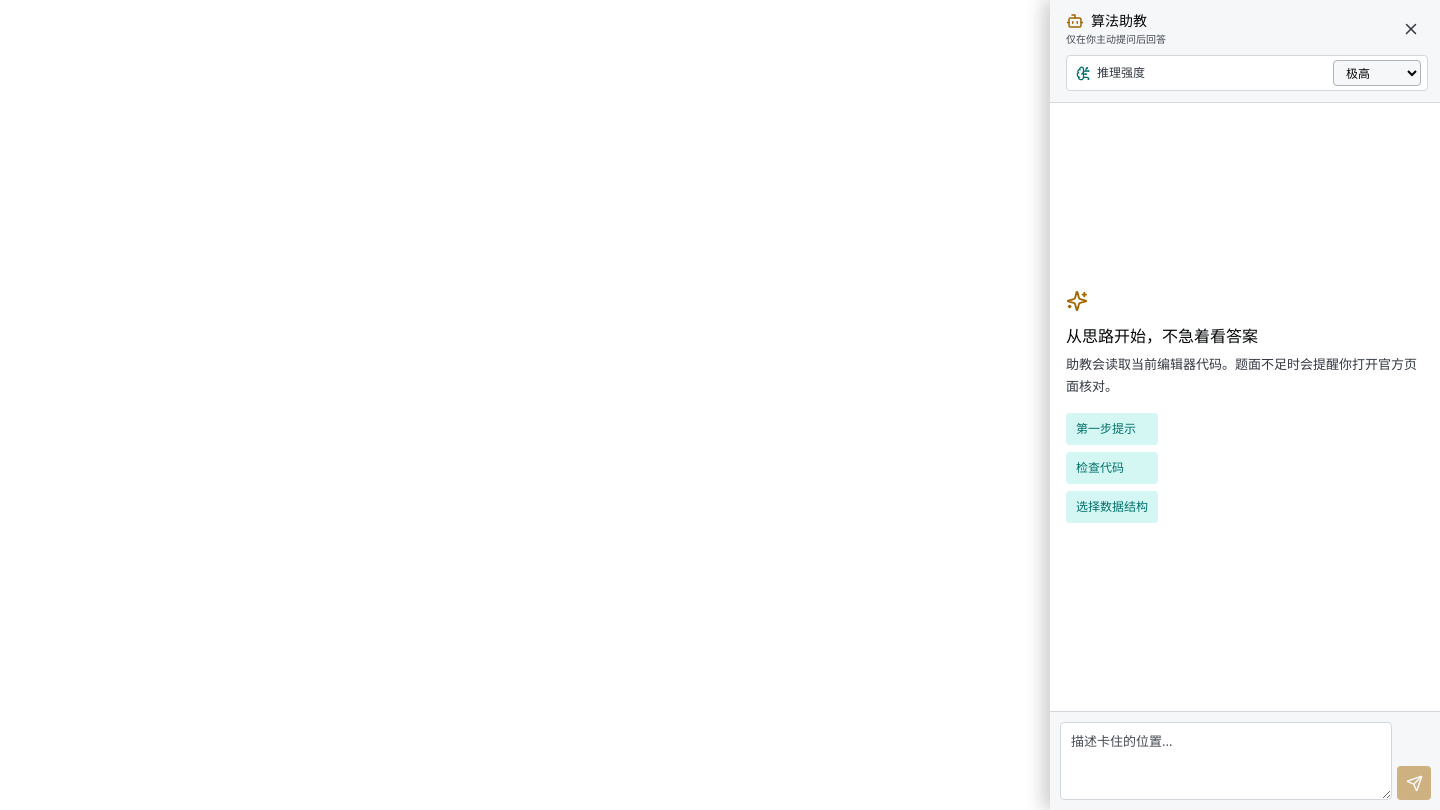
Scenario: AIAssistant › waits for an explicit question and sends the selected reasoning effort
expect the text "从思路开始，不急着看答案" is shown: met, box [1066,324,1258,348]
Select "超限" in the dropdown labelled "推理强度". click: (1377, 73)
box: [1333,60,1421,86]
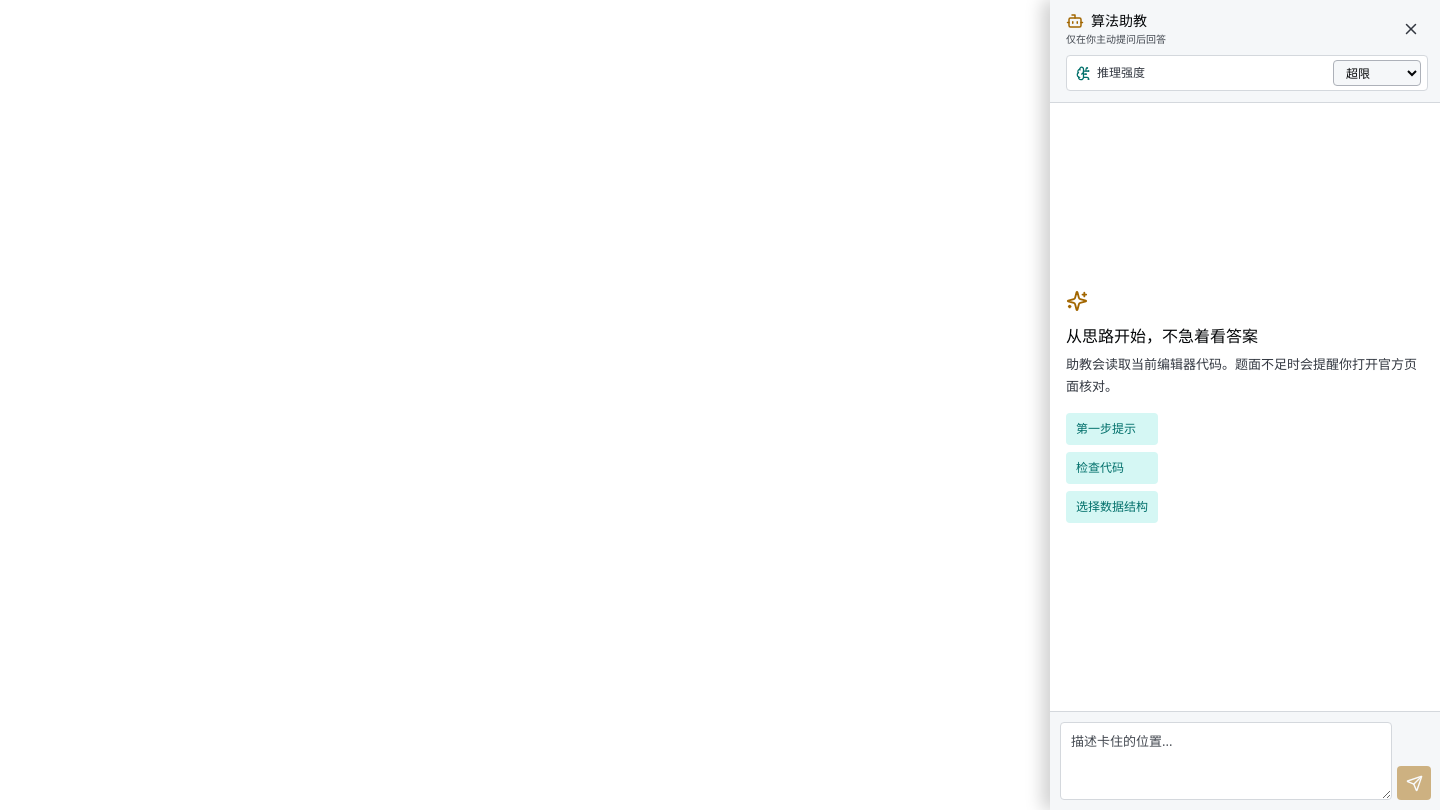
Type "只给我第一步提示" into the text box with placeholder "描述卡住的位置...". click: (1226, 761)
box: [1060,722,1392,800]
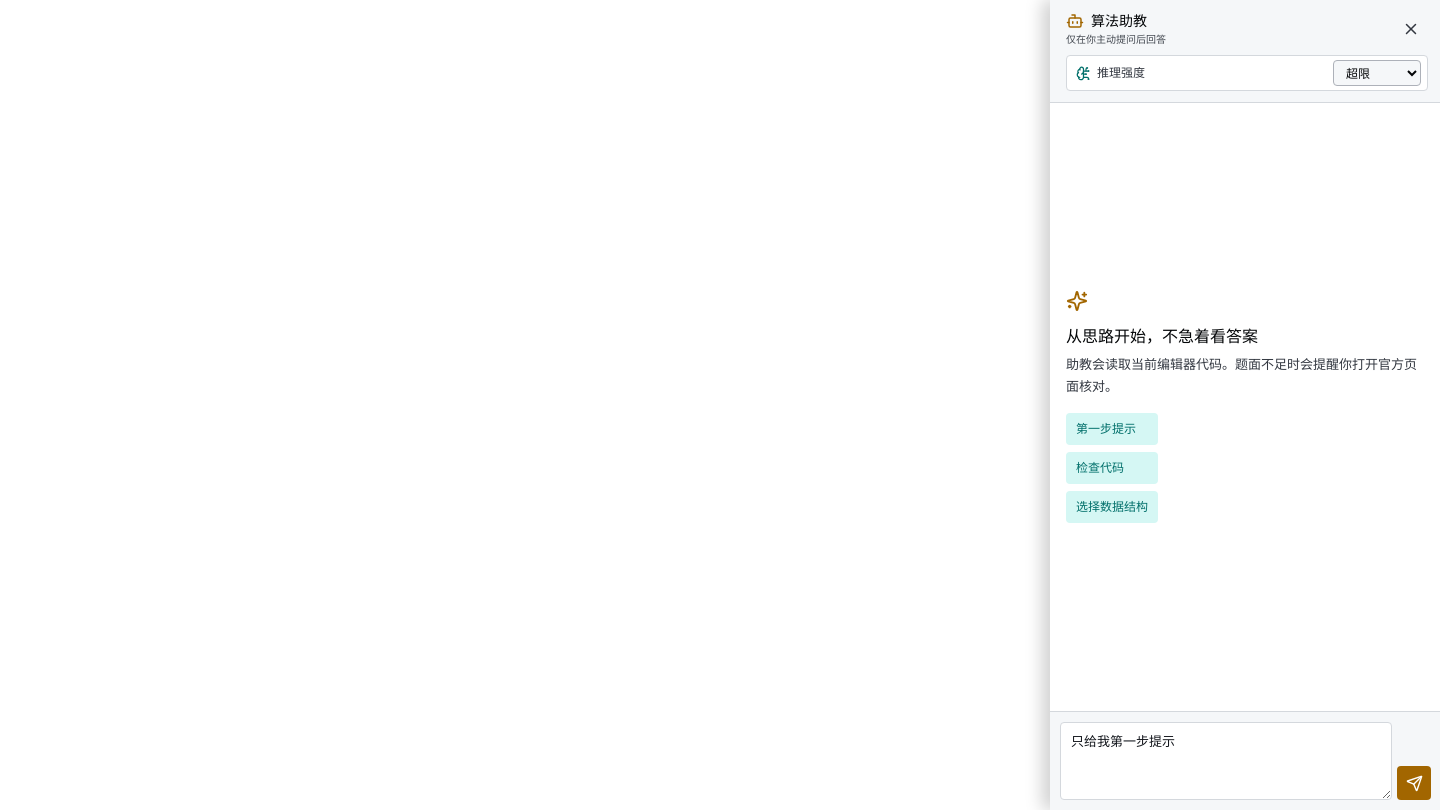
Click the button named "发送". click: (1414, 783)
box: [1397,766,1431,800]
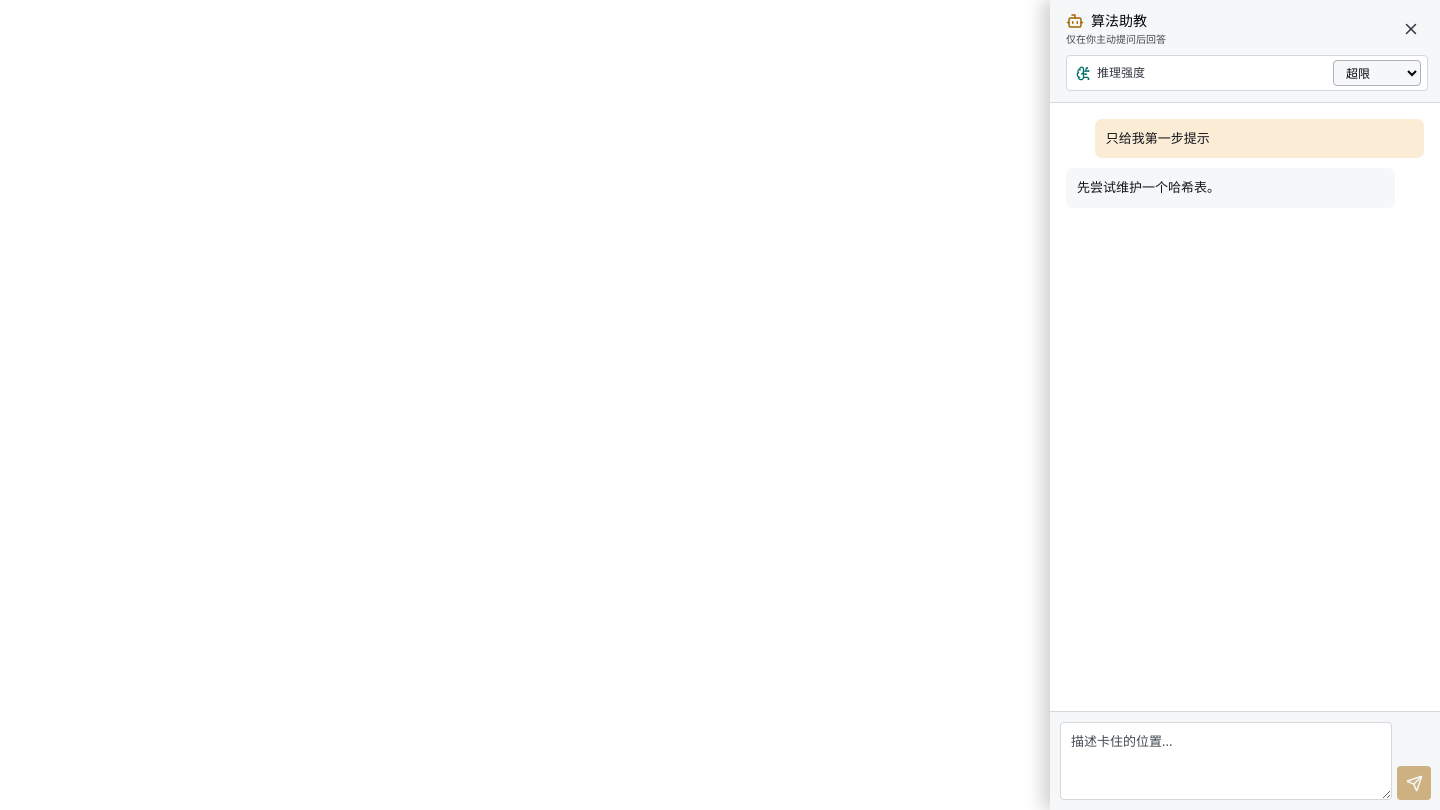
expect the text "先尝试维护一个哈希表。" is shown: met, box [1077,178,1220,196]
